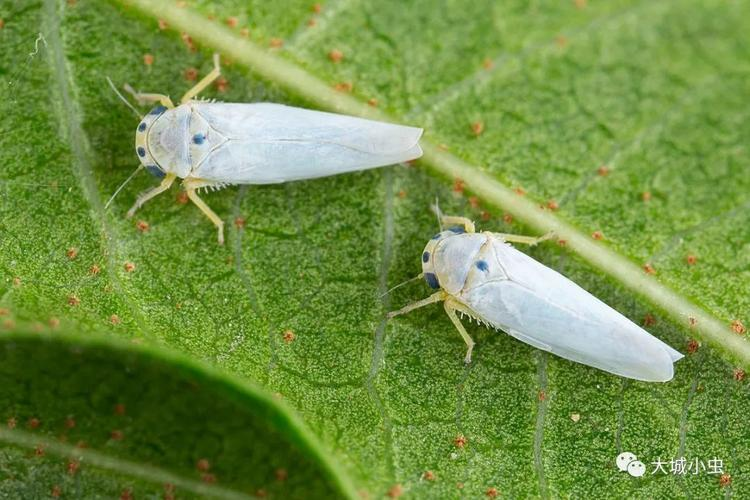Cicadellidae: (385, 204, 685, 383), (102, 57, 423, 218)
